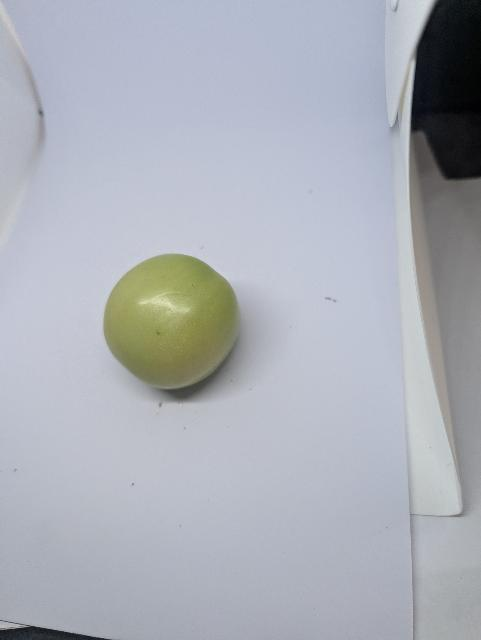green: (100, 250, 245, 391)
